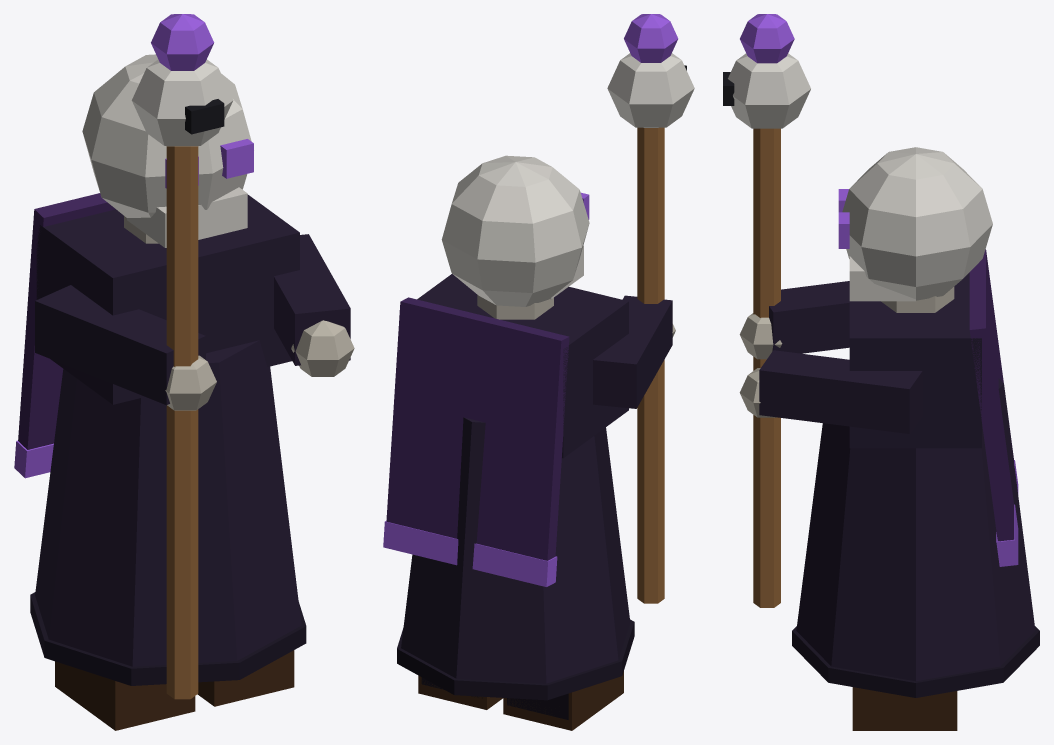
Rendered from e_necro.fbx.
The picture shows the model from 3 angles, left to right: view 1: azimuth 30°, elevation 25°; view 2: azimuth 150°, elevation 25°; view 3: azimuth 270°, elevation 25°; orthographic projection. The views are drawn at different scales.
Parts seen in each view (by area): view 1: e_necro_Body, e_necro_LegR, e_necro_LegL; view 2: e_necro_Body, e_necro_LegR, e_necro_LegL; view 3: e_necro_Body, e_necro_LegL.
Boxes of the visible parts, x1,y1,x2,y2 form: e_necro_Body: (14,14,354,699); e_necro_LegR: (55,661,195,730); e_necro_LegL: (197,650,294,706); e_necro_Body: (383,14,694,700); e_necro_LegR: (503,671,623,730); e_necro_LegL: (418,675,502,709); e_necro_Body: (723,14,1039,697); e_necro_LegL: (852,687,957,730).
Size of the model in its own units: 0.4977 by 1.3 by 0.575.
